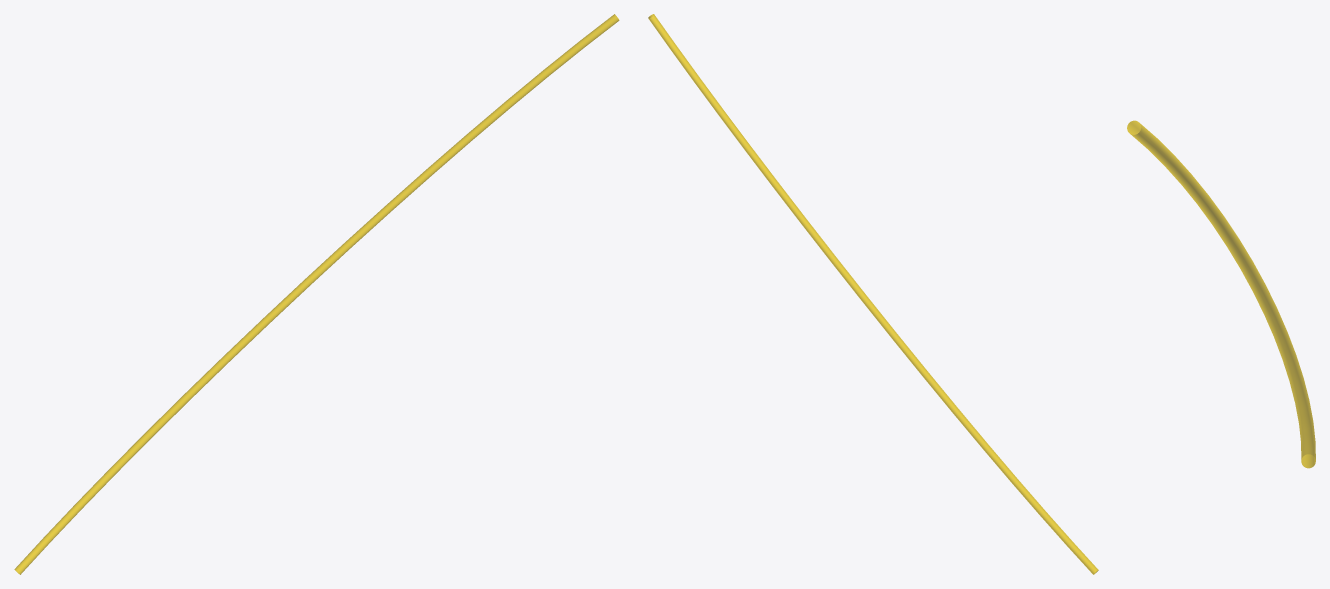
The model's file is Event_84804159_track_30.fbx.
3 renders of one model, left to right at view 1: azimuth 30°, elevation 25°; view 2: azimuth 150°, elevation 25°; view 3: azimuth 270°, elevation 25°, orthographic. The views are drawn at different scales.
Visible parts, largest first — view 1: Model; view 2: Model; view 3: Model.
Part boxes in pixels (x1,y1,x2,y2): Model: (14,14,619,574); Model: (648,14,1098,574); Model: (1127,120,1315,468).
Size of the model in its own units: 3.11 by 2.48 by 0.5166.
